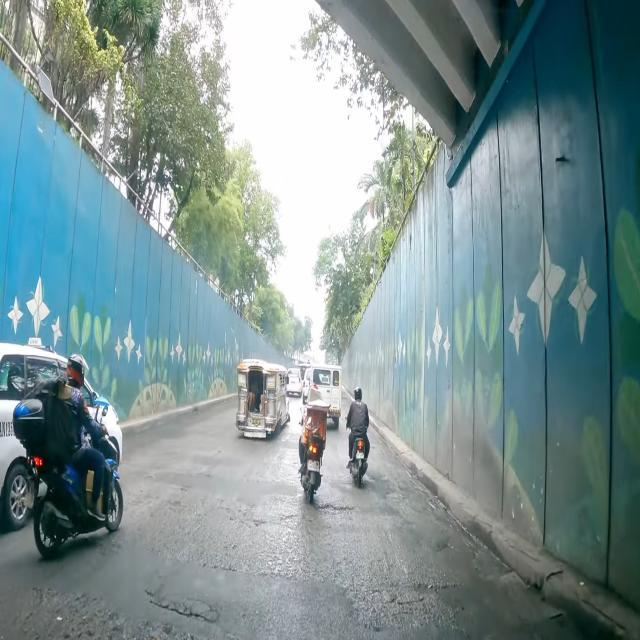car: (0, 340, 123, 532), (312, 364, 341, 427), (286, 368, 302, 396), (302, 366, 312, 404)
jeepney: (236, 358, 290, 436)
motorcycle: (13, 356, 122, 558), (298, 384, 329, 502), (346, 388, 369, 487)
